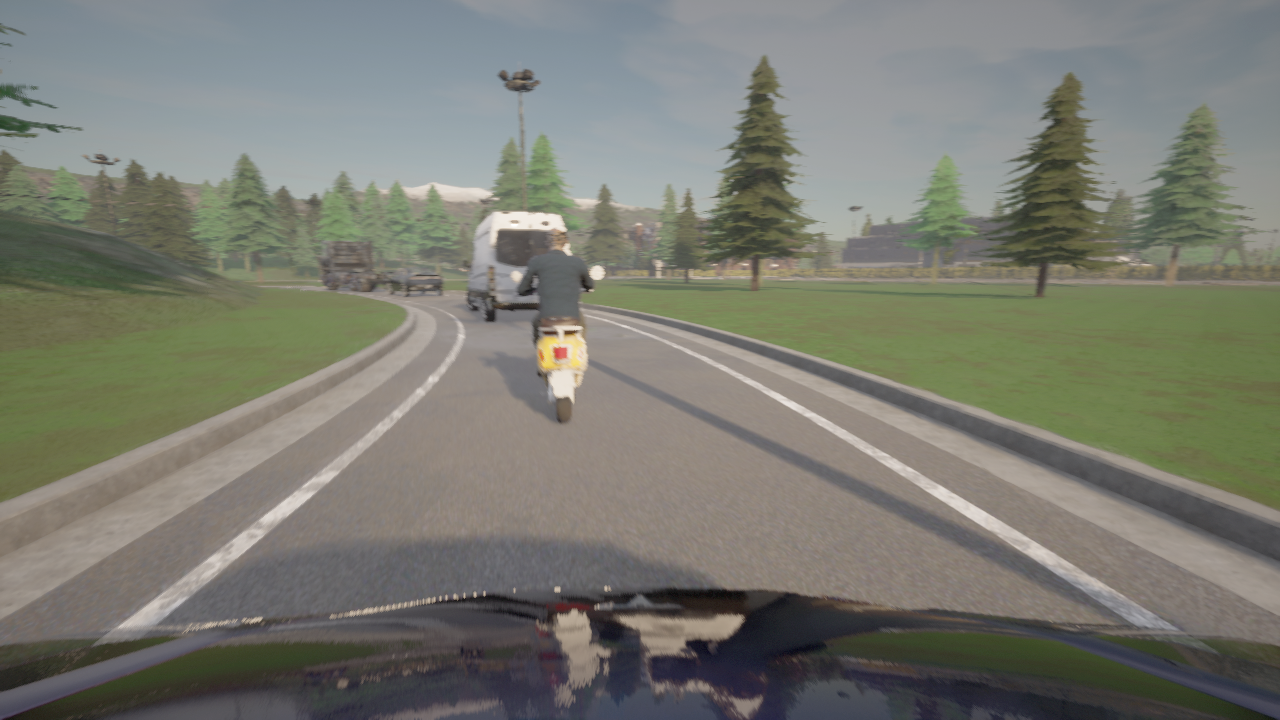cyclist: (0, 588, 1279, 719), (511, 267, 601, 422), (462, 211, 568, 322), (316, 240, 395, 292), (386, 267, 444, 297)
